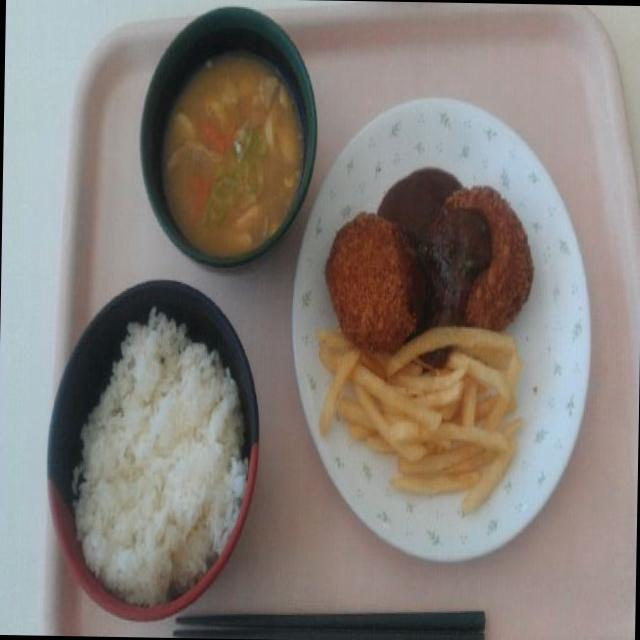Rice: (66, 298, 238, 526)
